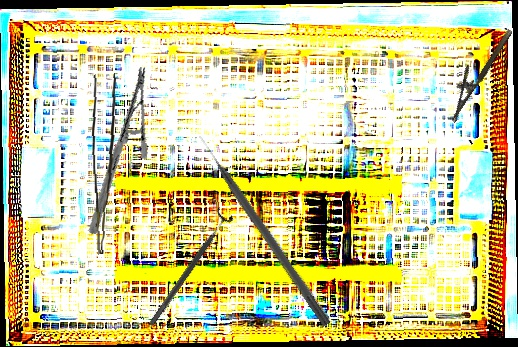Fixation Ring: (142, 206, 236, 331)
Needle Holder: (57, 65, 179, 236), (437, 20, 514, 124)
Pusher: (195, 131, 334, 328)
Tissue Forceps: (88, 73, 125, 255)
